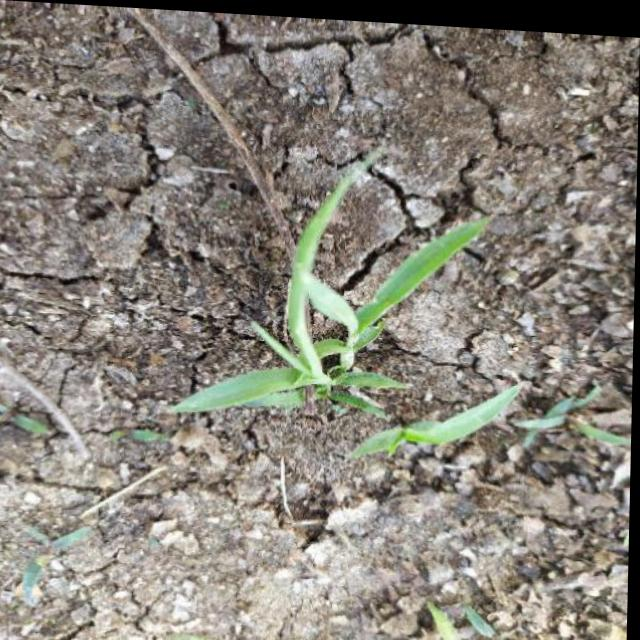weed: (106, 135, 525, 477)
